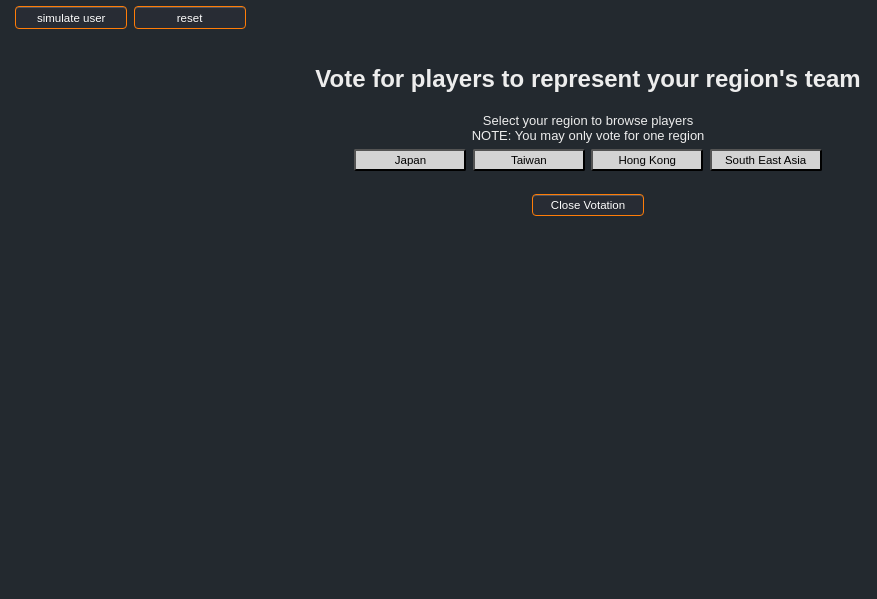
Test case: The Resuts component › View Players › should render the players names
This screenshot has width=877, height=599.
Click the button with id "adminCloseVote" at (588, 205), box [532,194,644,216]
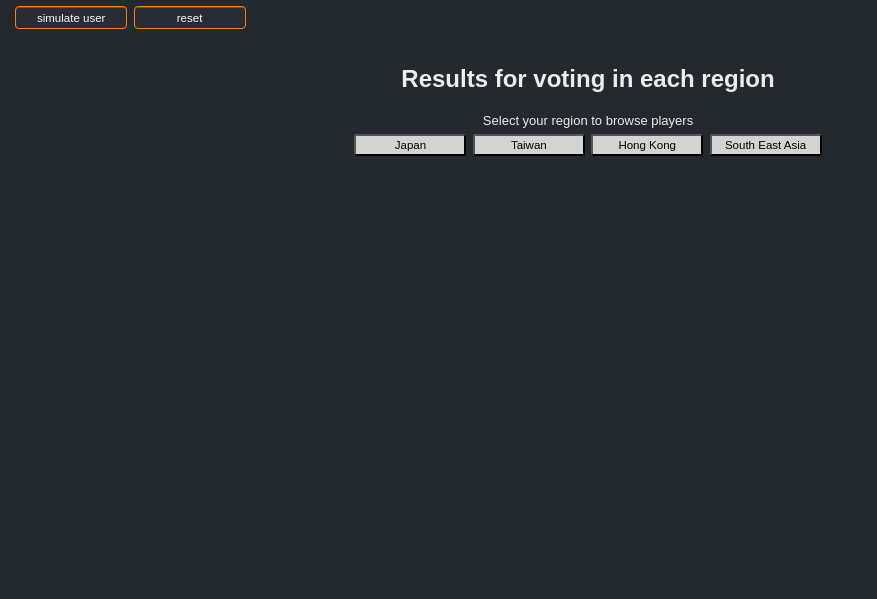
Click the button "Japan" at (410, 145), box [354,134,466,156]
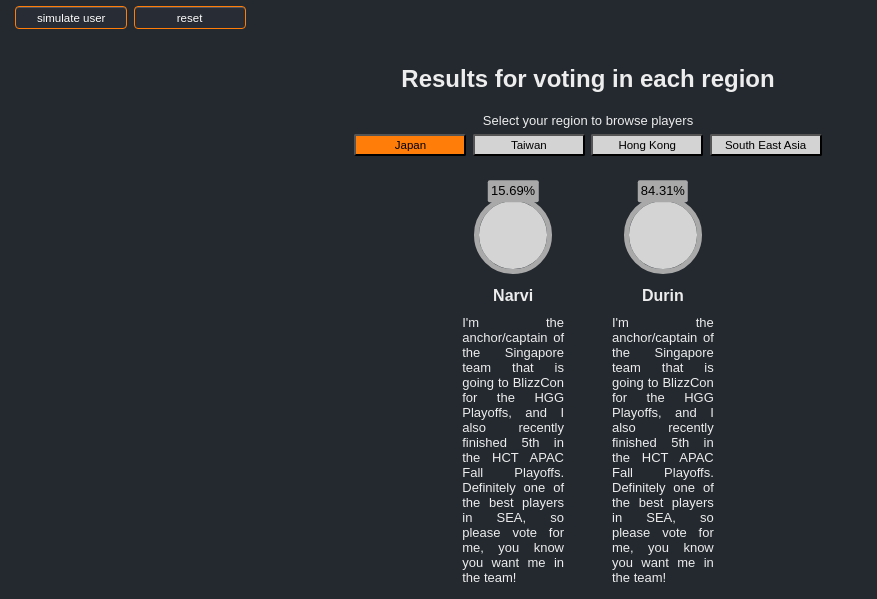
Now the text "Narvi" is shown, box [493,287,533,304]
